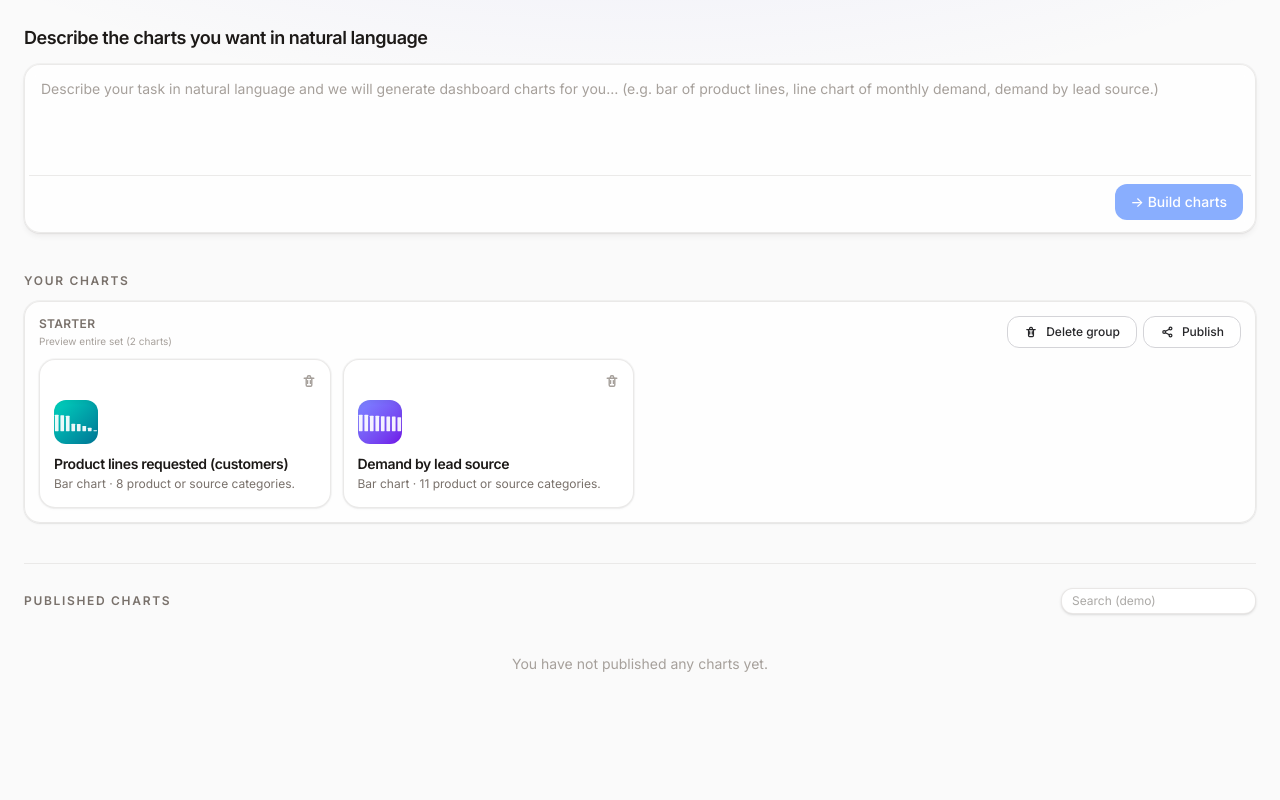
Scenario: DashboardGeneratorPage › removes a chart when the tile delete control is used
The width and height of the screenshot is (1280, 800).
Click the button with test id "dashboard-chart-tile-delete": (308, 381) [292,365,324,397]
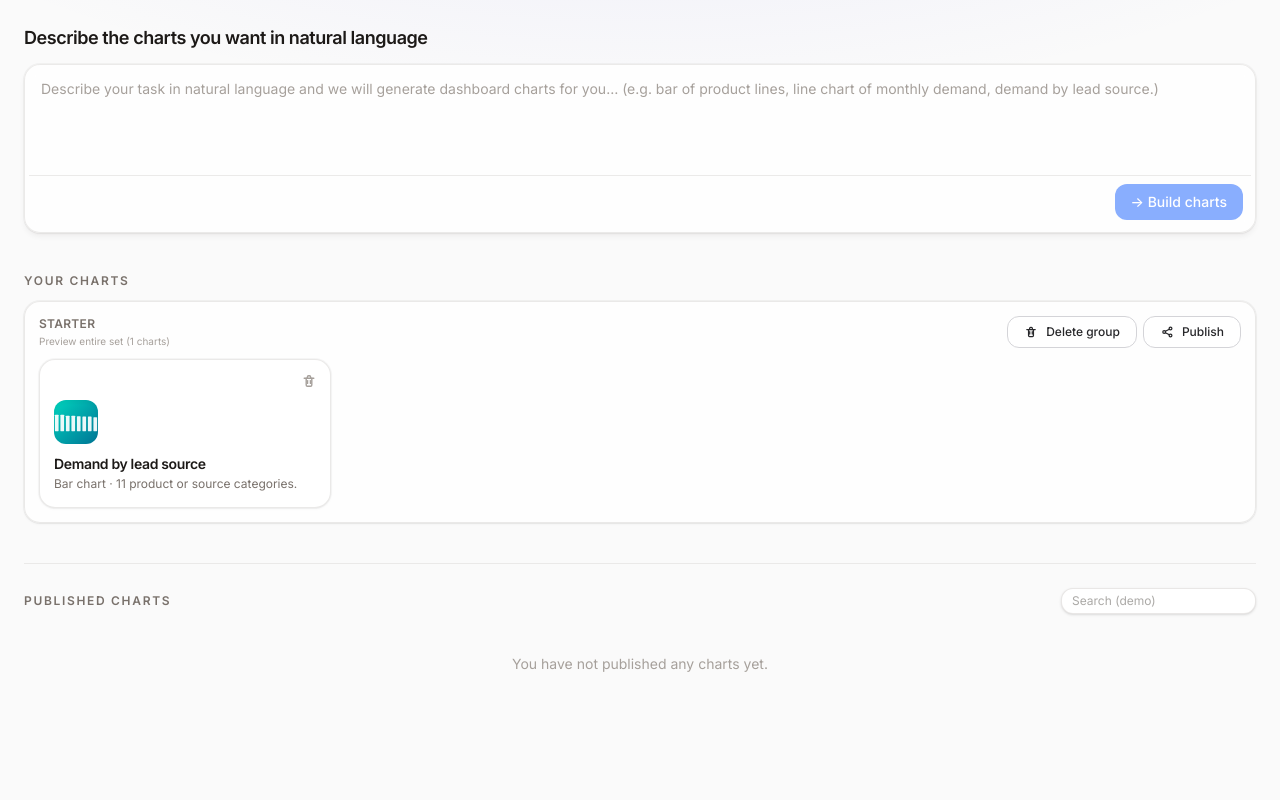
Now the number of buttons with test id "dashboard-chart-tile" is 1, box [39,359,330,508]
